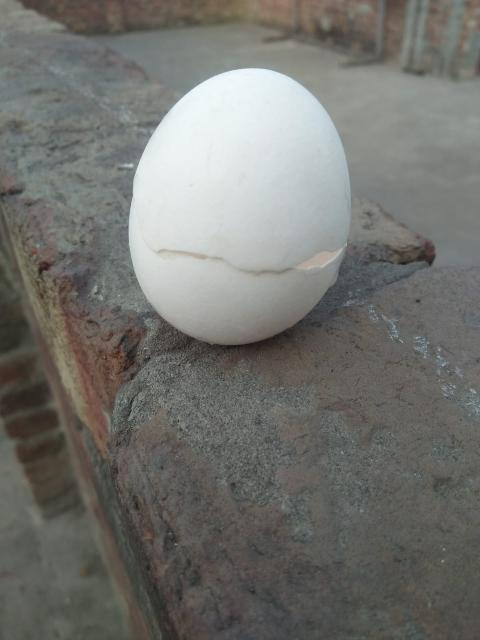Roto: (127, 66, 352, 346)
